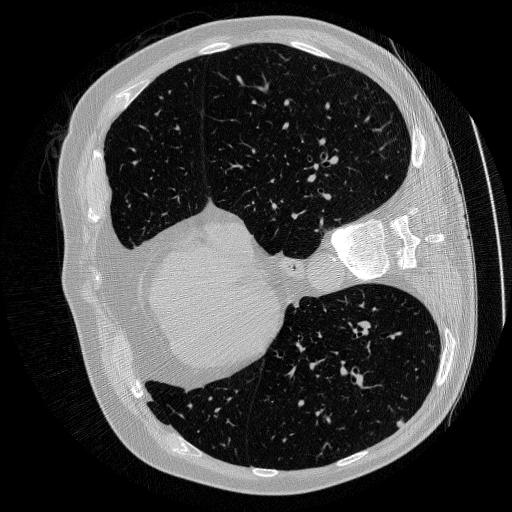nodule: (392, 415, 407, 430)
